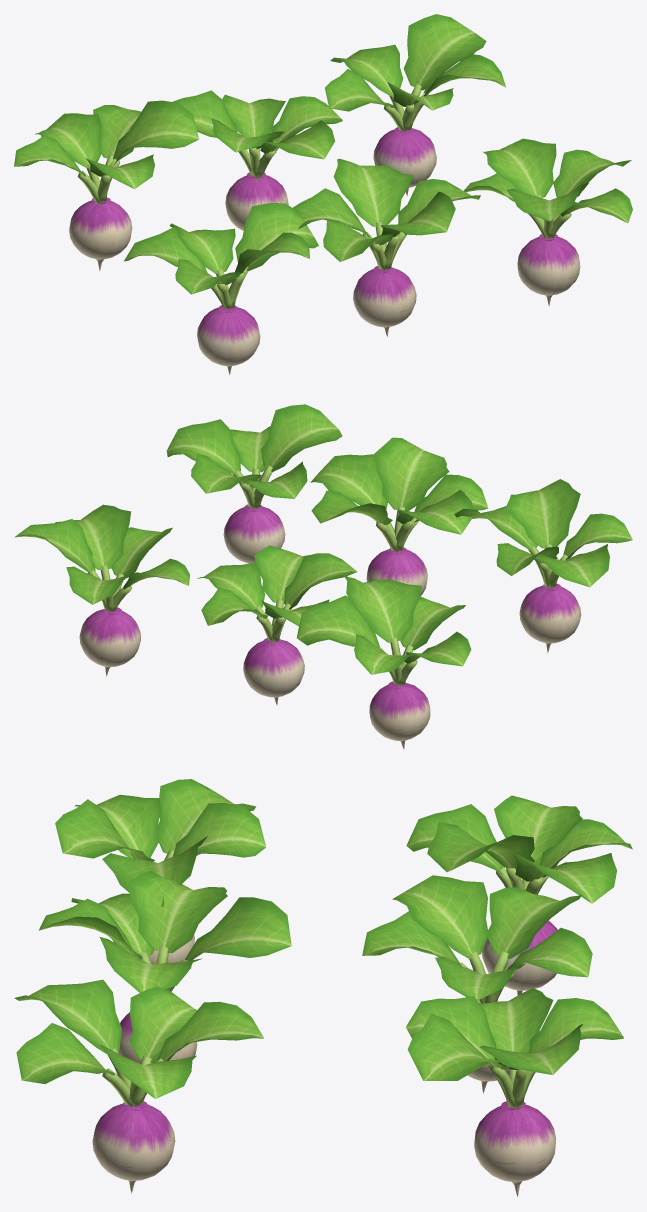
The model's file is crop_turnip_2.glb.
3 views of the same model, one above another, from view 1: azimuth 30°, elevation 25°; view 2: azimuth 150°, elevation 25°; view 3: azimuth 270°, elevation 25° (orthographic). The views are drawn at different scales.
Visible parts, largest first — view 1: model; view 2: model; view 3: model.
Part boxes in pixels (x1,y1,x2,y2): model: (14,14,632,375); model: (14,404,632,749); model: (14,779,632,1197).
Bounding box in the file's own units: 0.8691 × 0.2737 × 0.7436.
3 materials, 2 textured.
